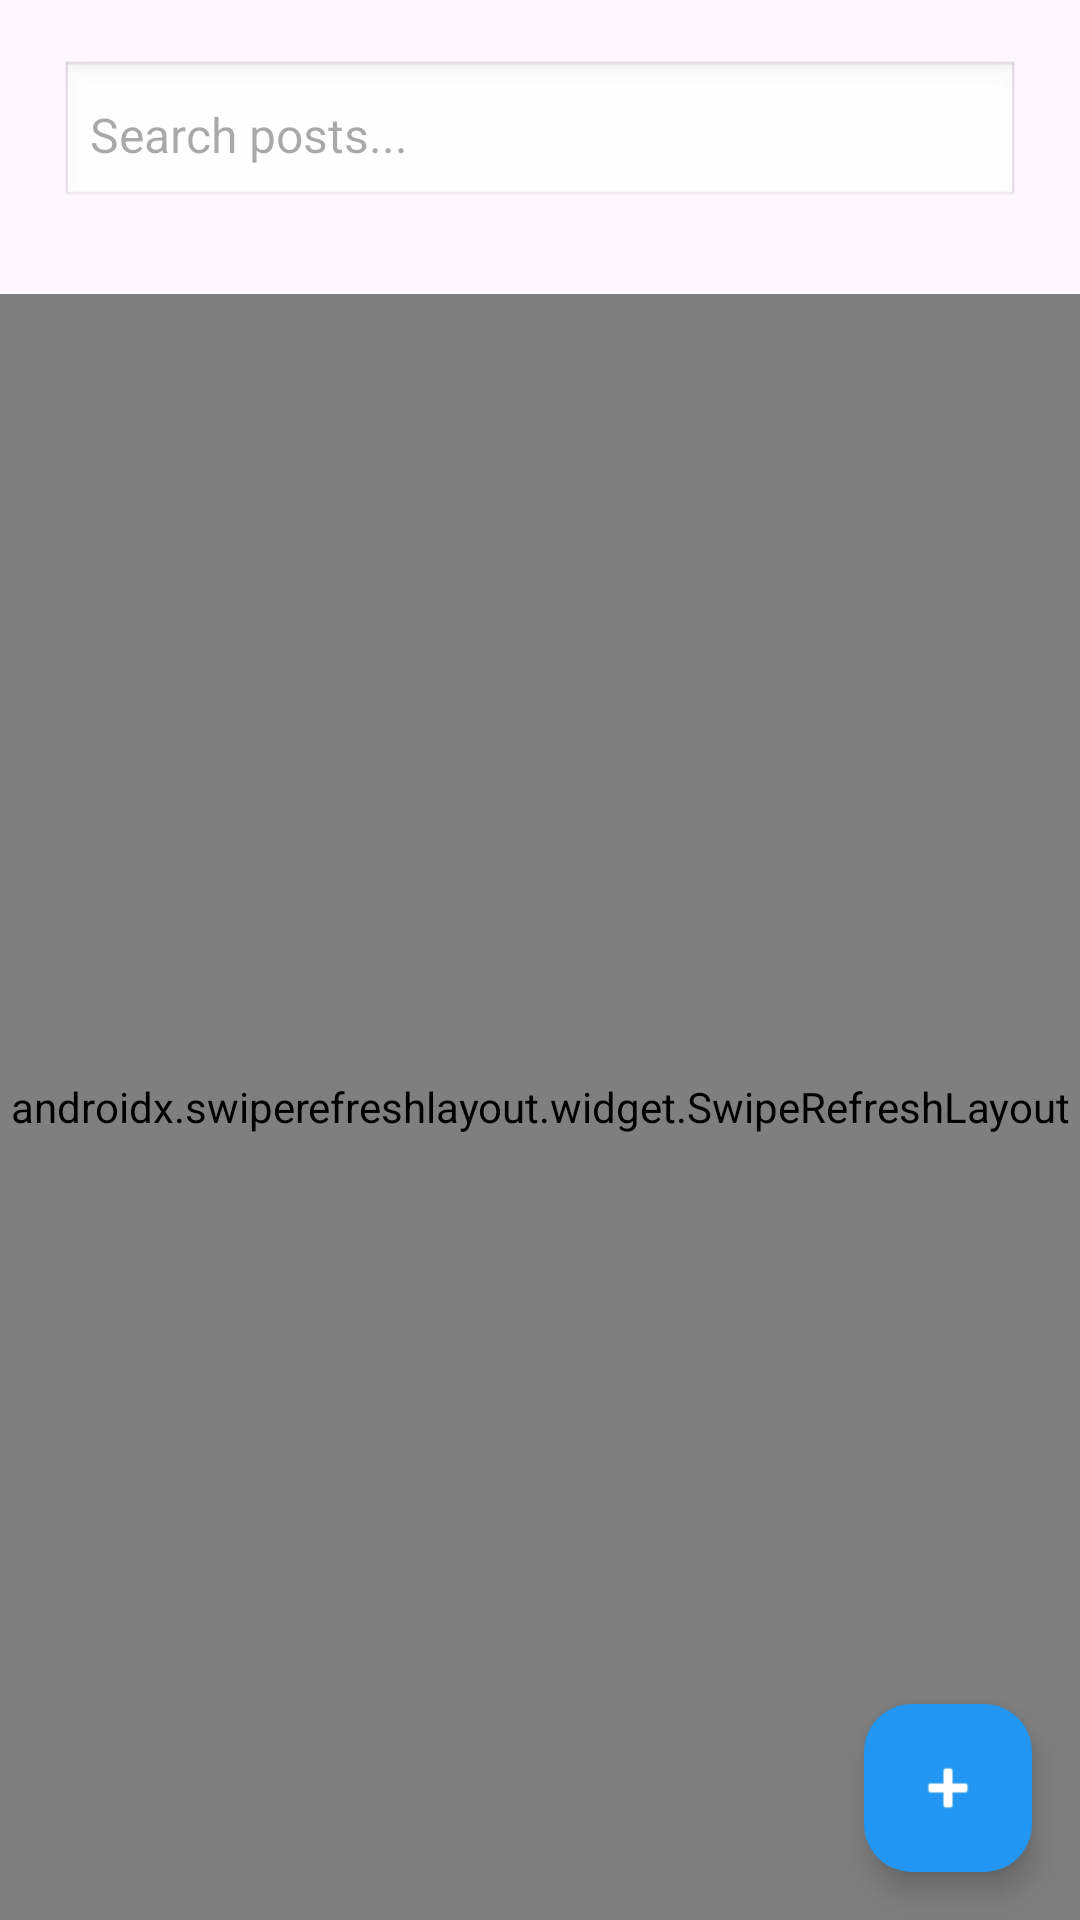

Point at icon controls on the screen. Image size 1080 × 1920, points as (x,y).
Add Post: (948,1788)
